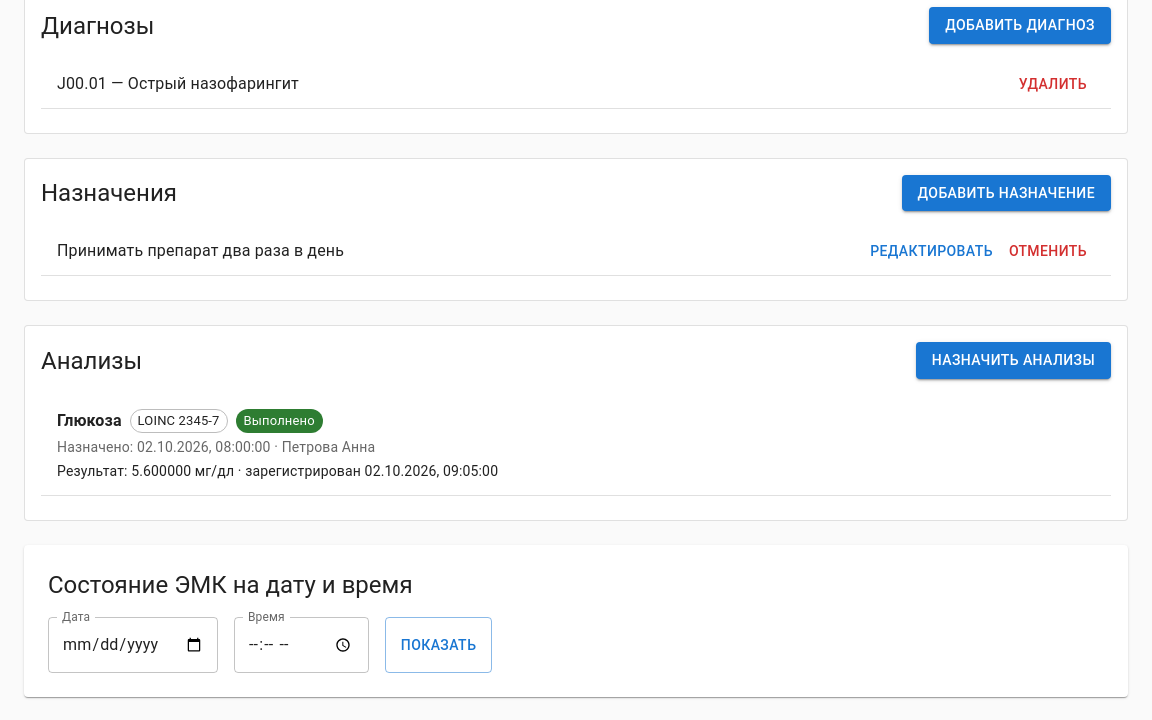
Test: MedicalRecordPage authorization-aware UI › creates selected laboratory orders with one stable client request id and relocks the record
(page scrolled)
Step 1. Click the button "Назначить анализы" → point(1013, 361), box 916,342 -> 1111,379
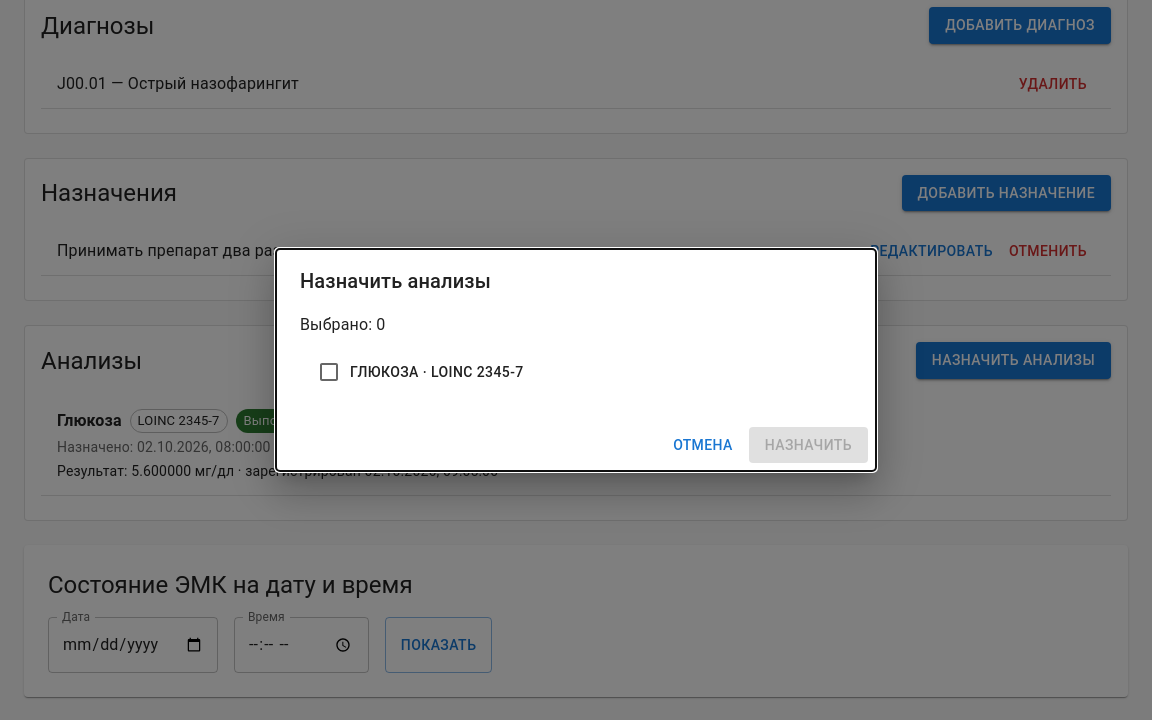
Step 2. Click the button "Глюкоза · LOINC 2345-7" → point(384, 372), box 300,345 -> 852,399
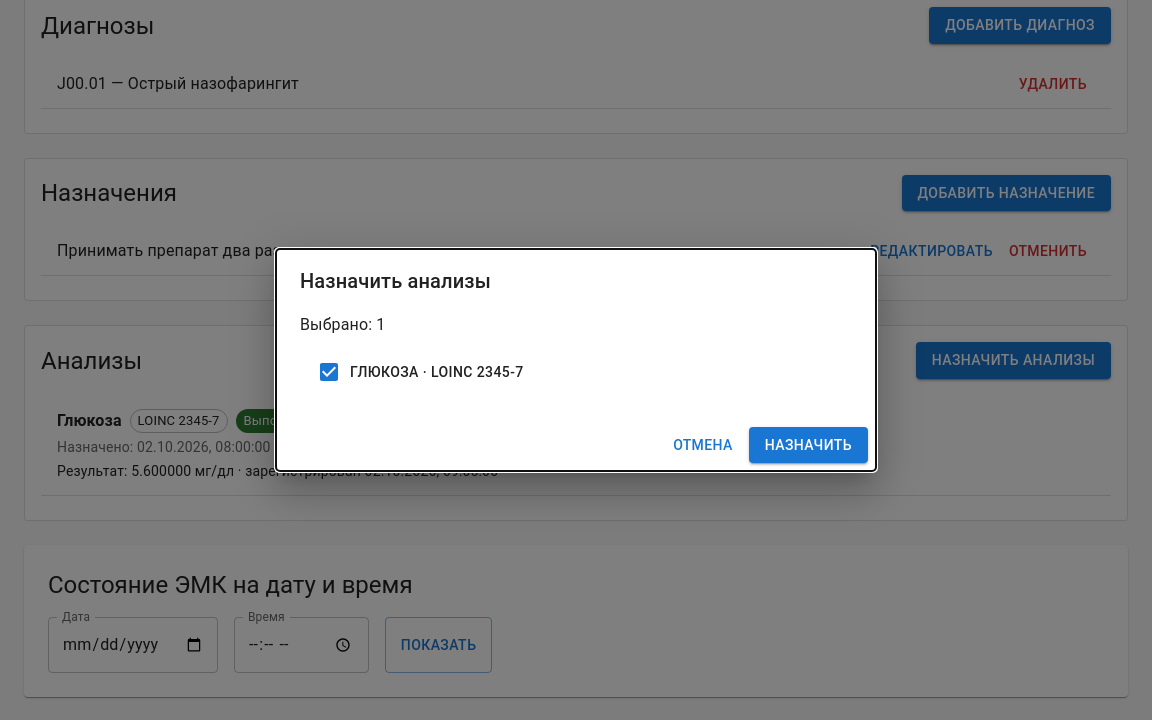
Step 3. Click the button "Назначить" → point(808, 445), box 749,427 -> 868,463
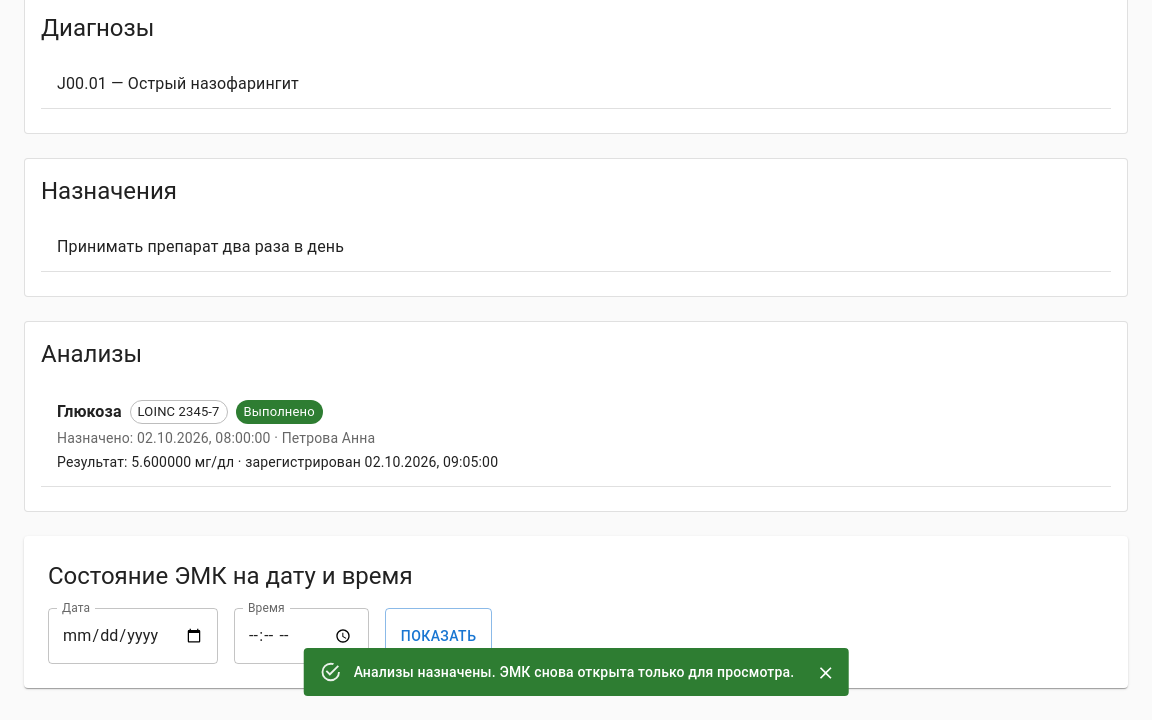
Expected: the text "Анализы назначены. ЭМК снова открыта только для просмотра." is shown, 354,664 -> 794,680
Expected: the button "Назначить анализы" is gone
